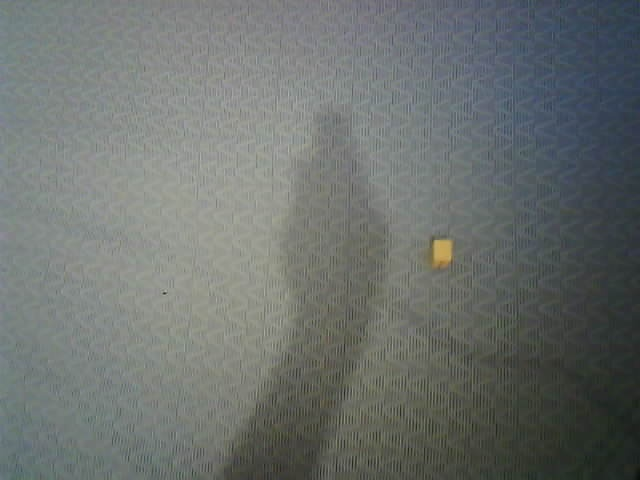lego: (429, 239, 454, 270)
